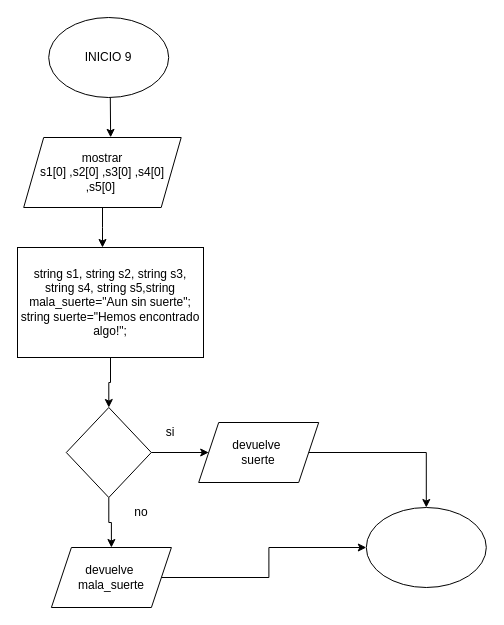
The diagram is 504 pixels wide and 625 high, and some of its shapes have lost their labels. The centre of each missing label's shape, as x and y in pixels:
FIN: (x=425, y=547)
s1[0]==s5[0]: (x=108, y=452)
